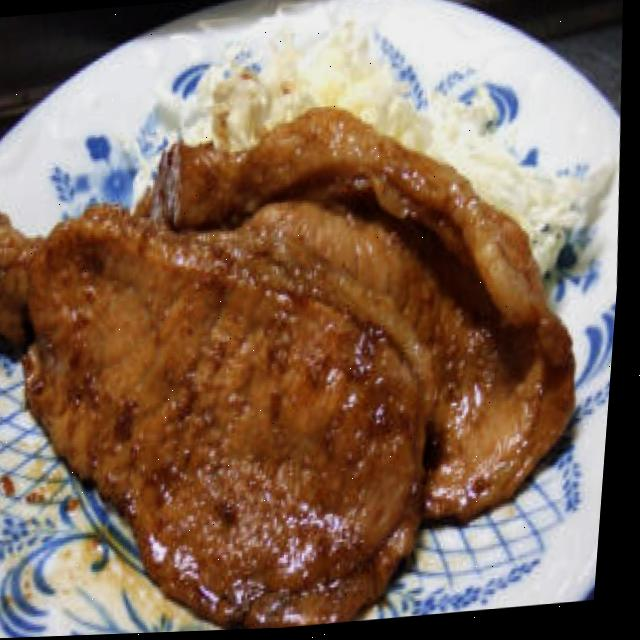猪肉菜式: (0, 207, 607, 640)
